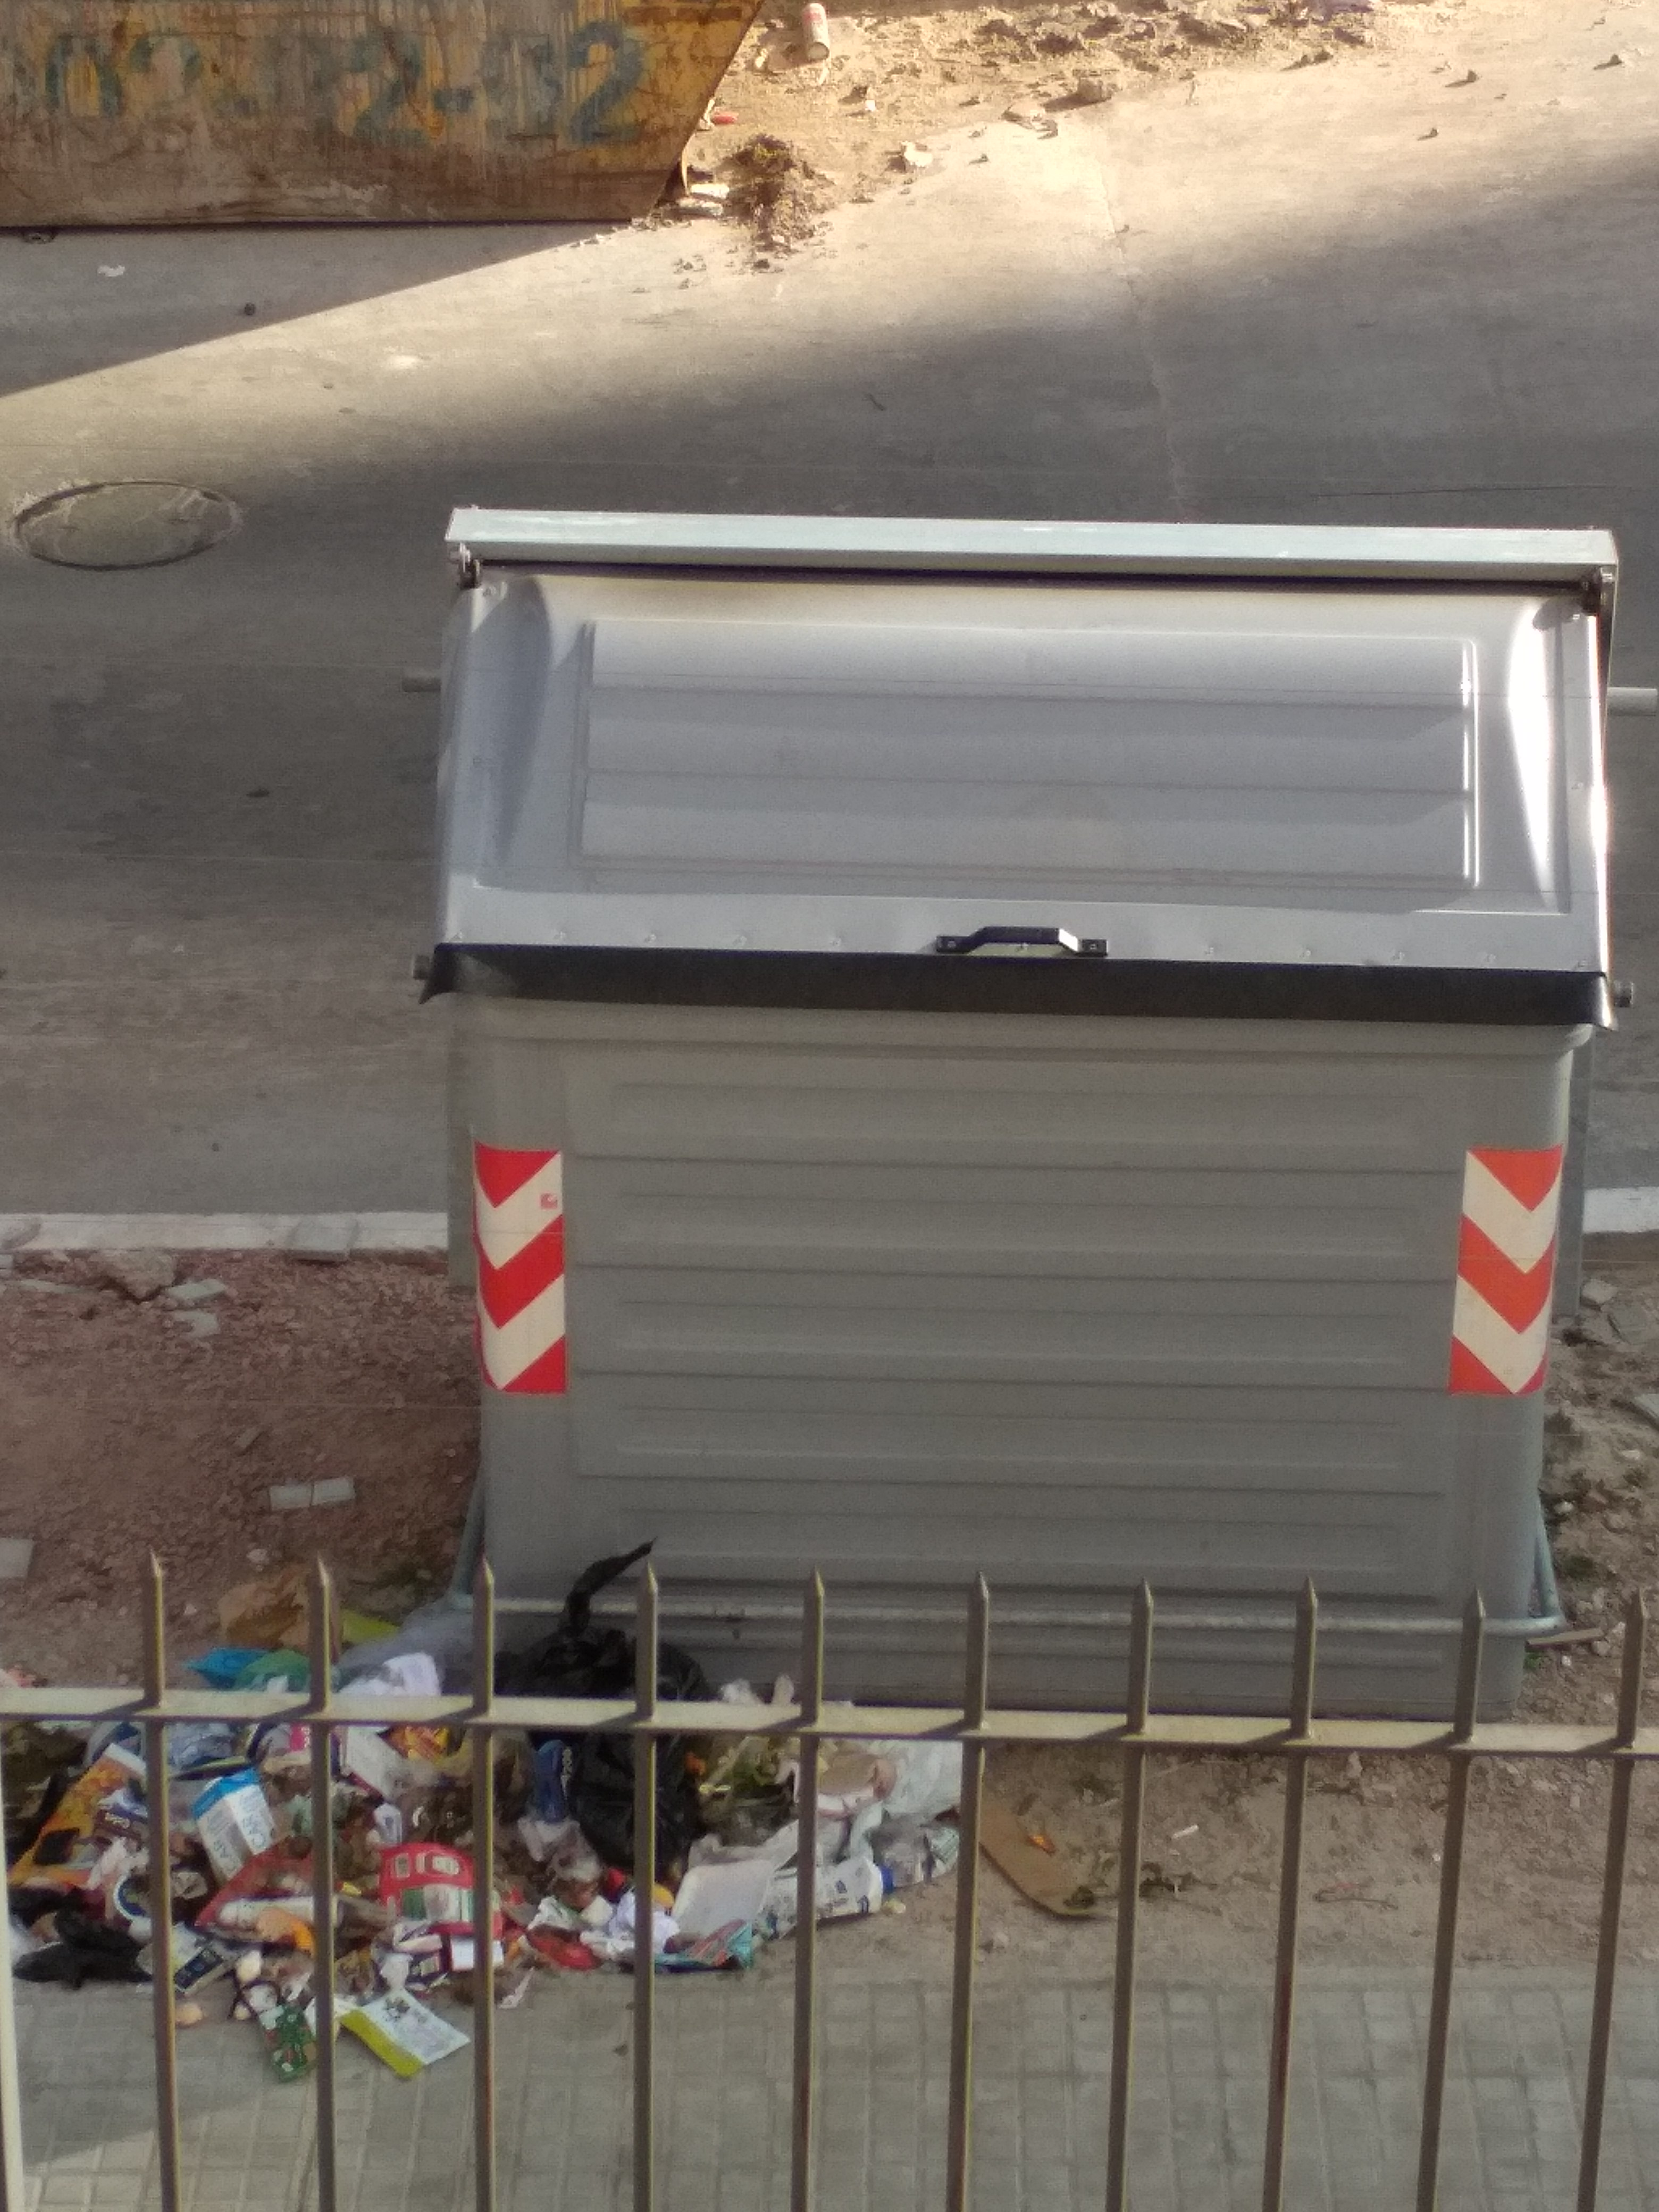container: (418, 465, 1628, 1702)
